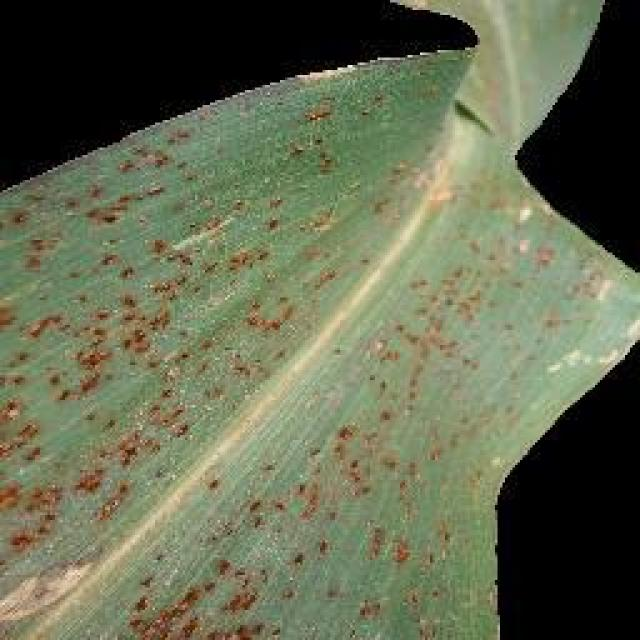Corn Common Rust: (45, 133, 492, 580)
